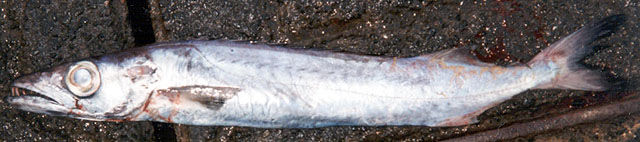fish: (7, 13, 629, 129)
